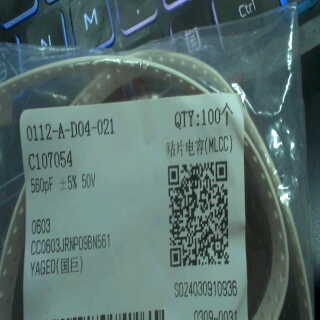560pF: (29, 171, 55, 197)
